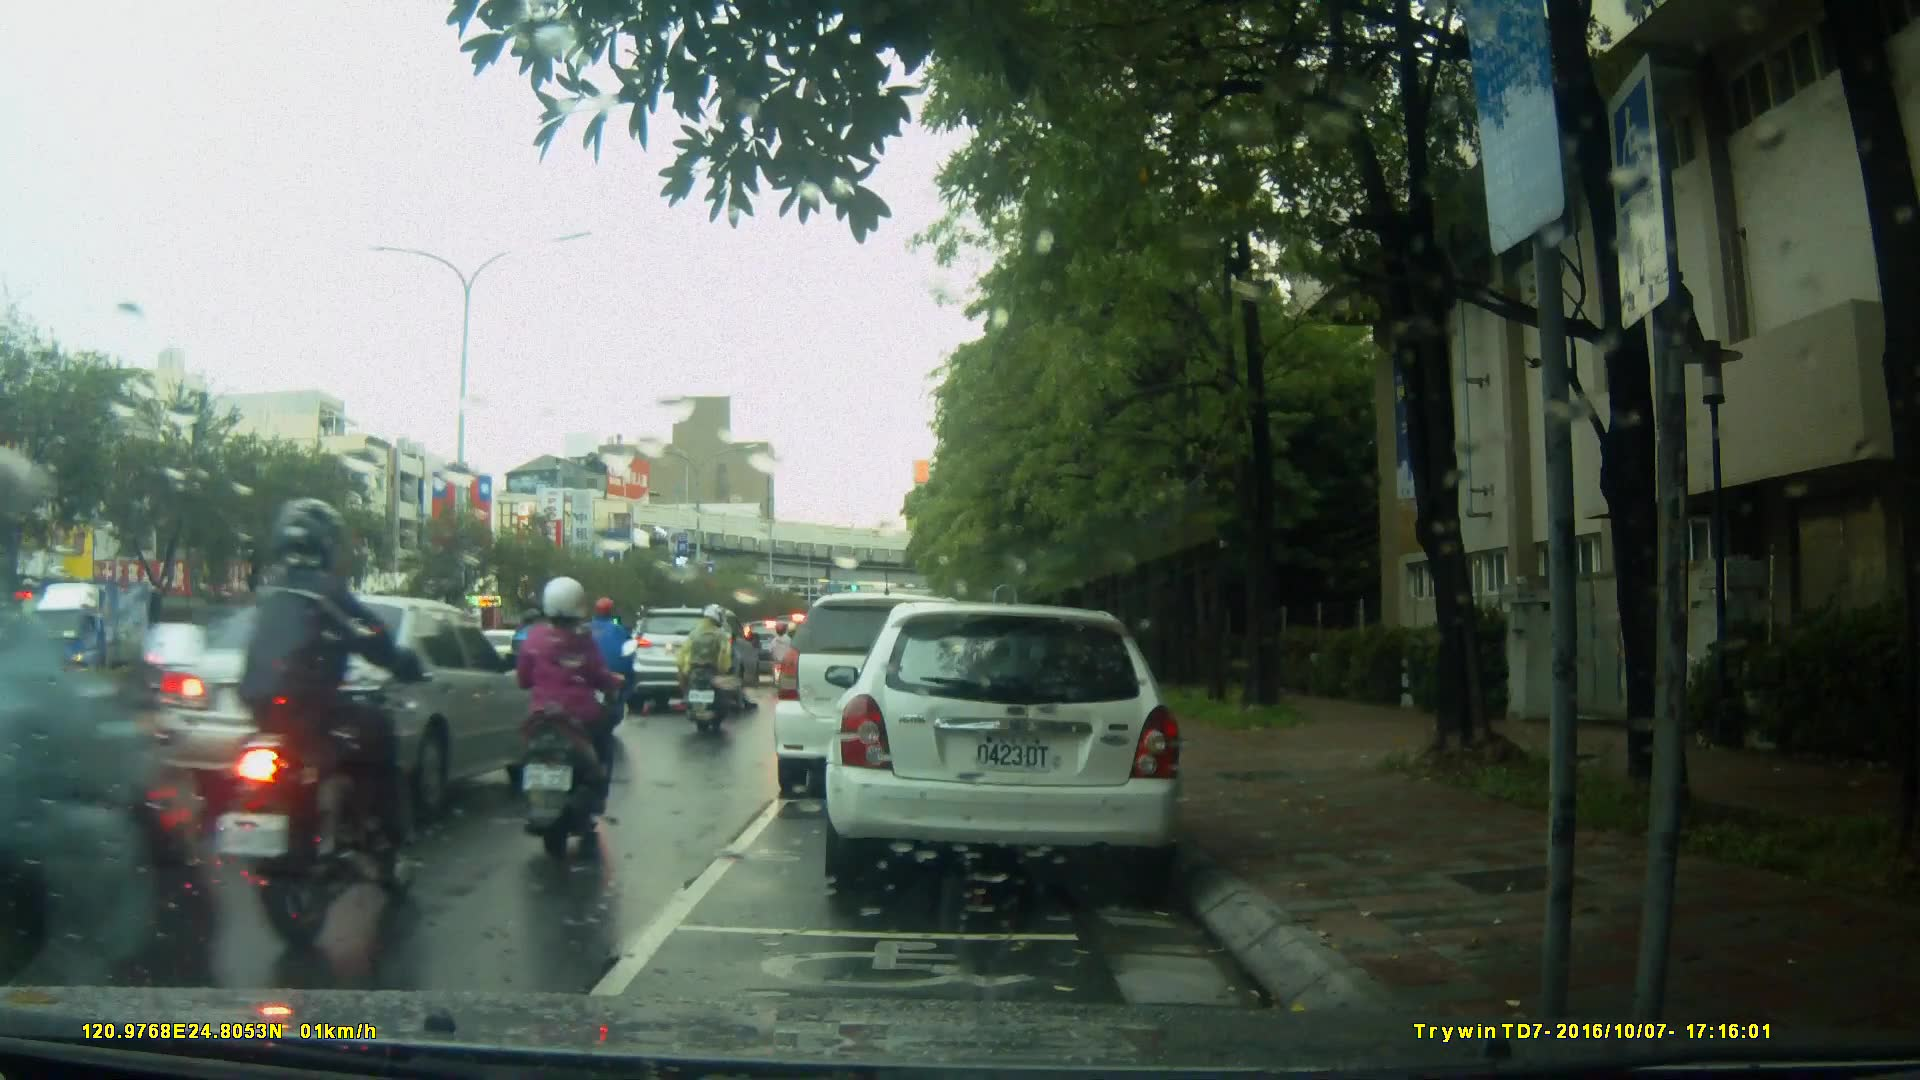rider: (1, 448, 227, 1068), (221, 497, 421, 945), (505, 581, 618, 857), (577, 596, 642, 726), (679, 602, 737, 739), (523, 603, 574, 710), (769, 623, 803, 697)
vehicle: (822, 604, 1188, 883), (148, 592, 555, 823), (774, 595, 995, 802), (622, 608, 763, 711)
